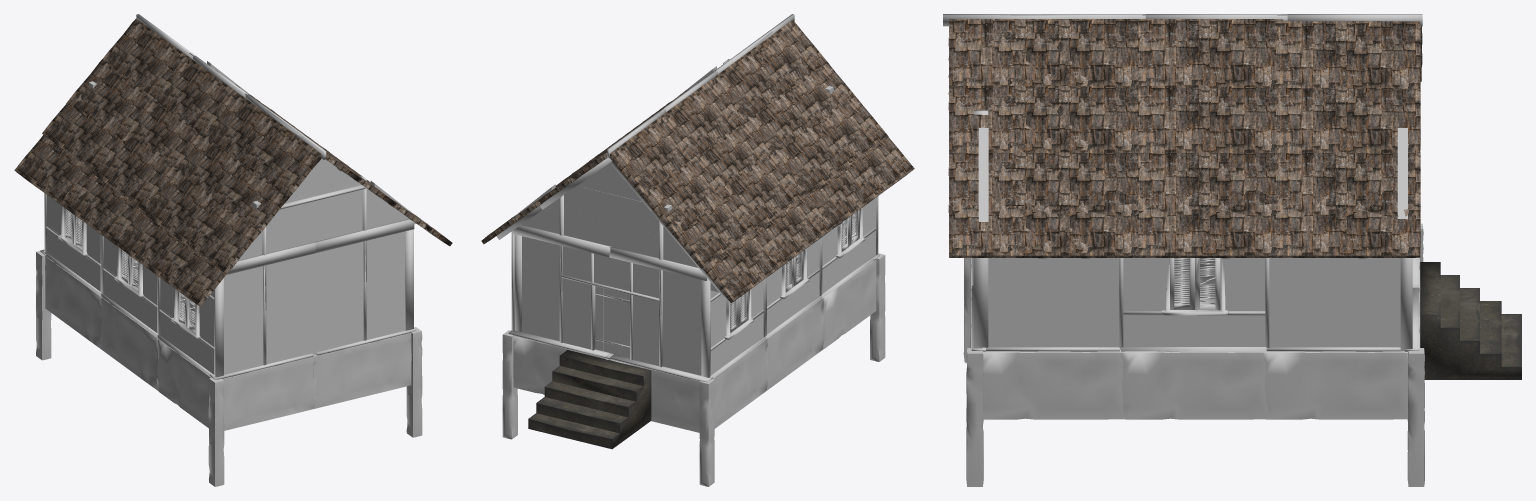
File: Casa_V3_Red.fbx
The picture shows the model from 3 angles, left to right: view 1: azimuth 30°, elevation 25°; view 2: azimuth 150°, elevation 25°; view 3: azimuth 270°, elevation 25°; orthographic projection. The views are drawn at different scales.
Visible parts, largest first — view 1: pared_piedra_1_5X3_LOW_600__1__Variant__1_; view 2: pared_piedra_1_5X3_LOW_600__1__Variant__1_, escalera_piedra_low; view 3: pared_piedra_1_5X3_LOW_600__1__Variant__1_, escalera_piedra_low.
Boxes of the visible parts, bbox=[...] form: pared_piedra_1_5X3_LOW_600__1__Variant__1_: bbox=[14, 14, 452, 486]; pared_piedra_1_5X3_LOW_600__1__Variant__1_: bbox=[481, 14, 914, 486]; escalera_piedra_low: bbox=[528, 350, 651, 449]; pared_piedra_1_5X3_LOW_600__1__Variant__1_: bbox=[943, 14, 1424, 486]; escalera_piedra_low: bbox=[1420, 262, 1521, 379].
Size of the model in its own units: 760 by 902 by 1166.
